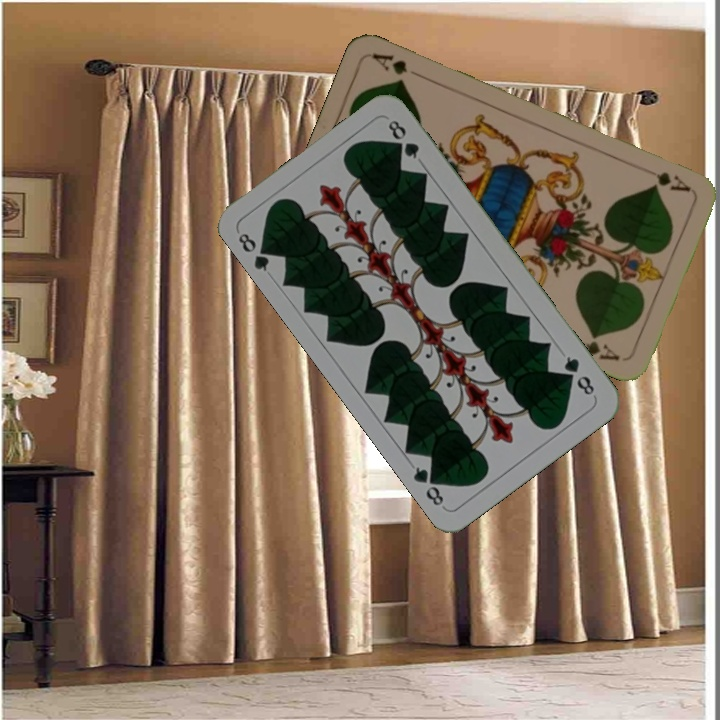G8: (234, 228, 277, 275), (559, 352, 598, 398)
GA: (637, 163, 693, 195)
